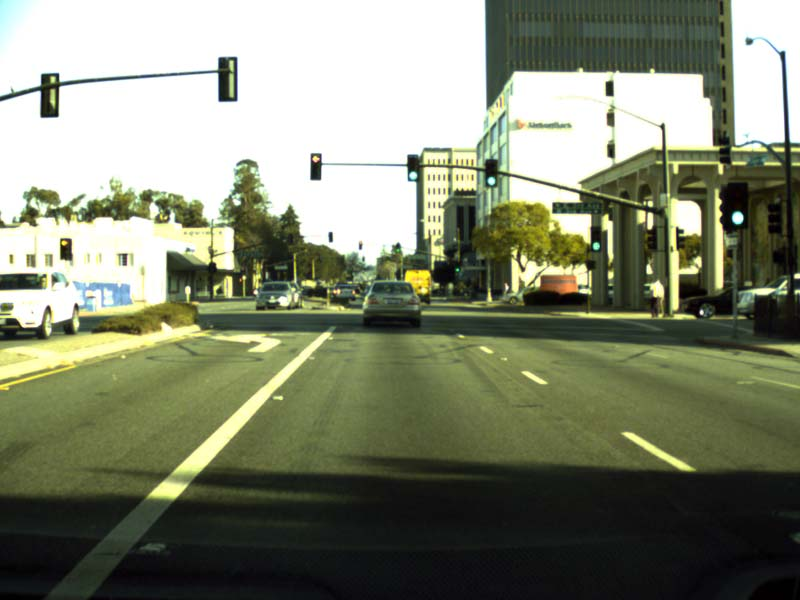Green: (726, 182, 748, 229), (485, 159, 497, 187), (407, 154, 419, 181), (590, 226, 601, 252), (454, 262, 459, 272), (396, 243, 400, 252)
Red: (309, 153, 320, 180), (60, 238, 72, 261), (358, 240, 362, 250)
